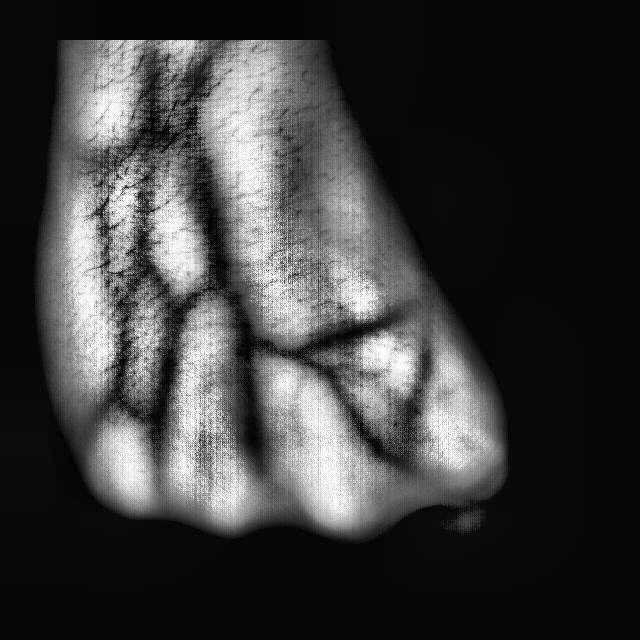Vein: (177, 73, 236, 265)
